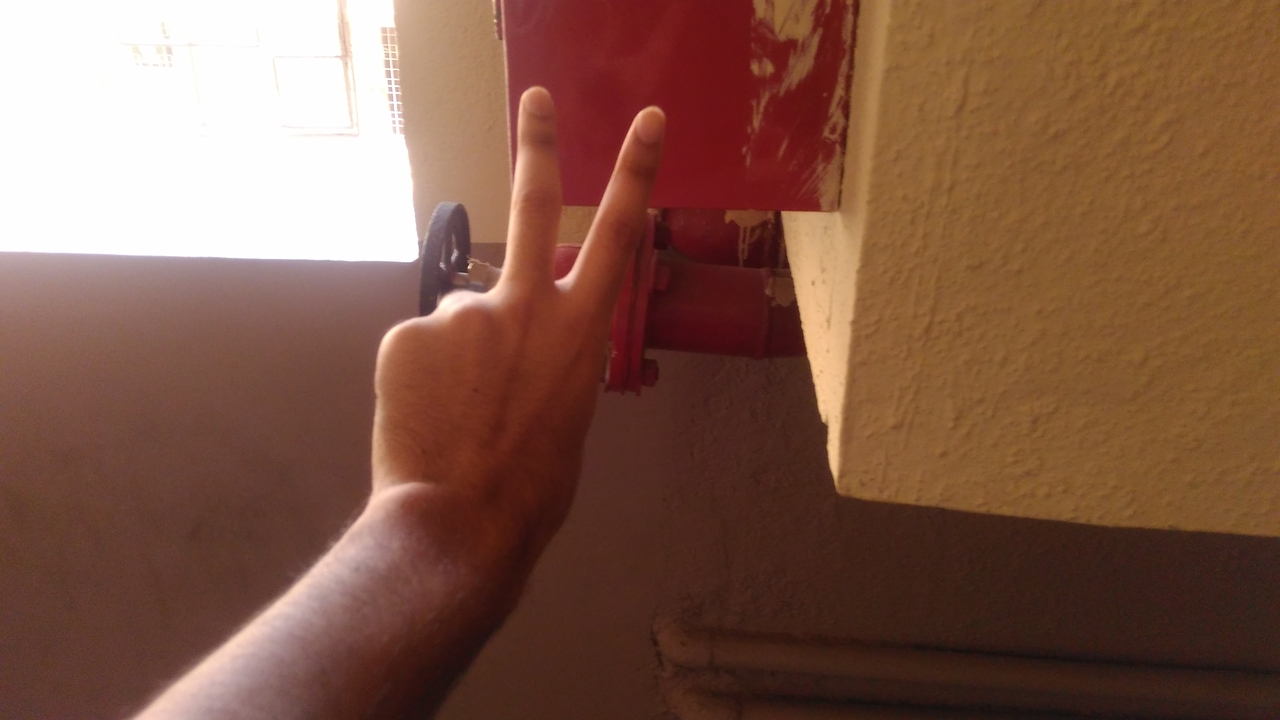fingertip: (618, 100, 672, 150), (510, 80, 564, 128)
